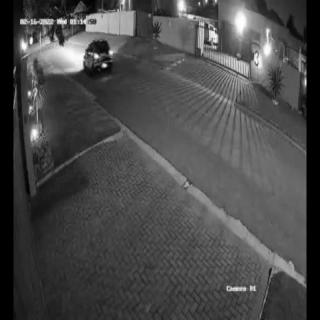car: (82, 39, 114, 74), (204, 22, 218, 45)
